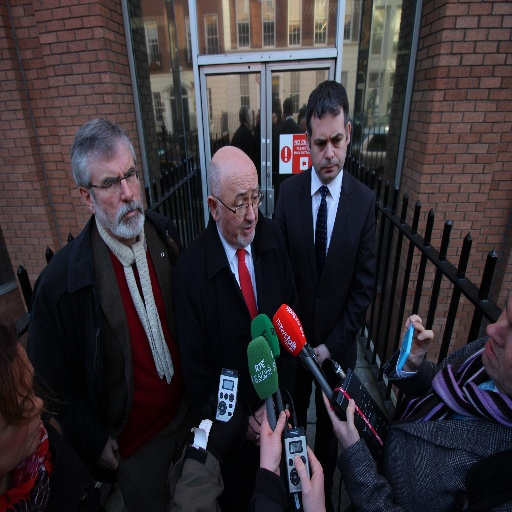hand: (253, 413, 292, 485), (320, 388, 356, 452), (295, 442, 324, 511), (403, 313, 434, 373), (247, 405, 268, 450), (96, 435, 121, 471), (312, 342, 329, 368)
